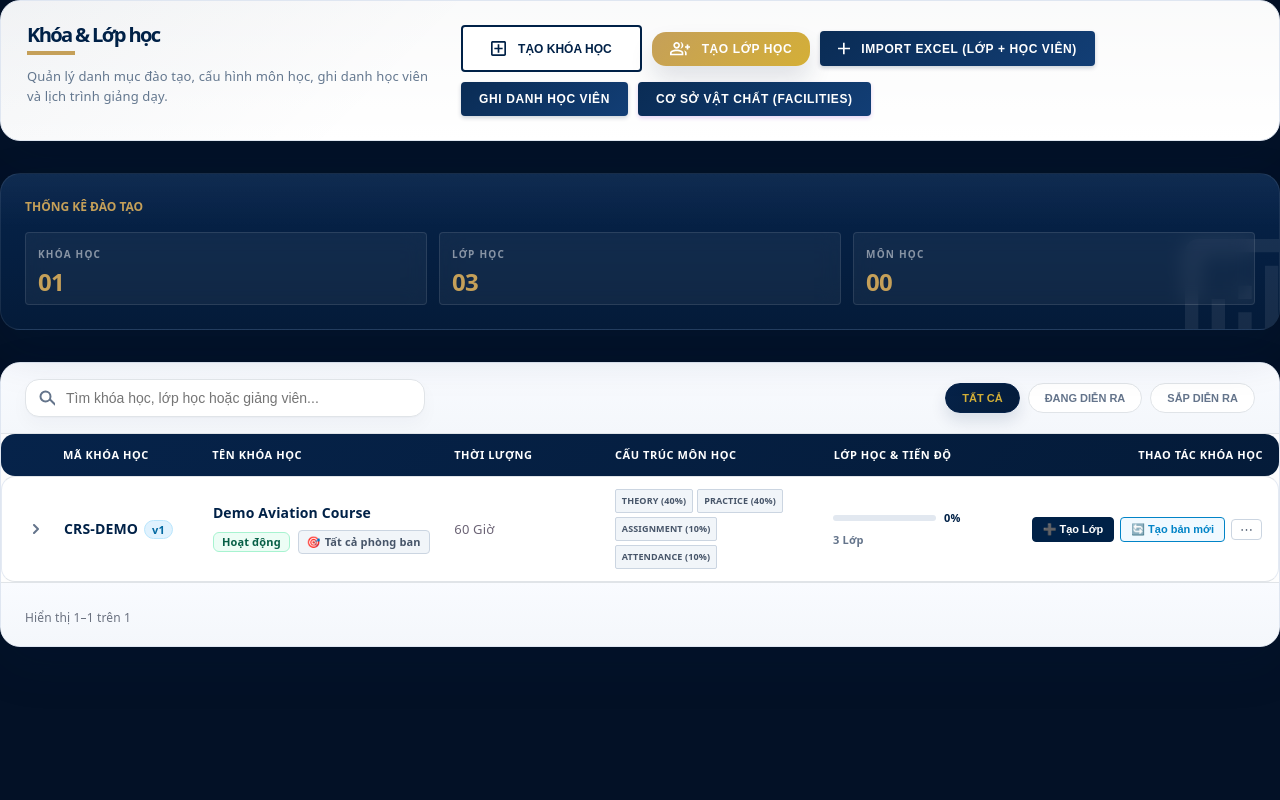
Test case: Course & Class Action Menu (⋯) & Status-based Direct Actions › course row renders primary actions and ⋯ menu with full course options
Expected: the text "CRS-DEMO" is shown, [64, 520, 138, 538]
Expected: the text "TẠO LỚP HỌC" is shown, [702, 42, 792, 56]
Note: Click ⋯ on the course row (first ⋯ button)
Click the button "⋯": click(1246, 529) [1231, 519, 1262, 540]
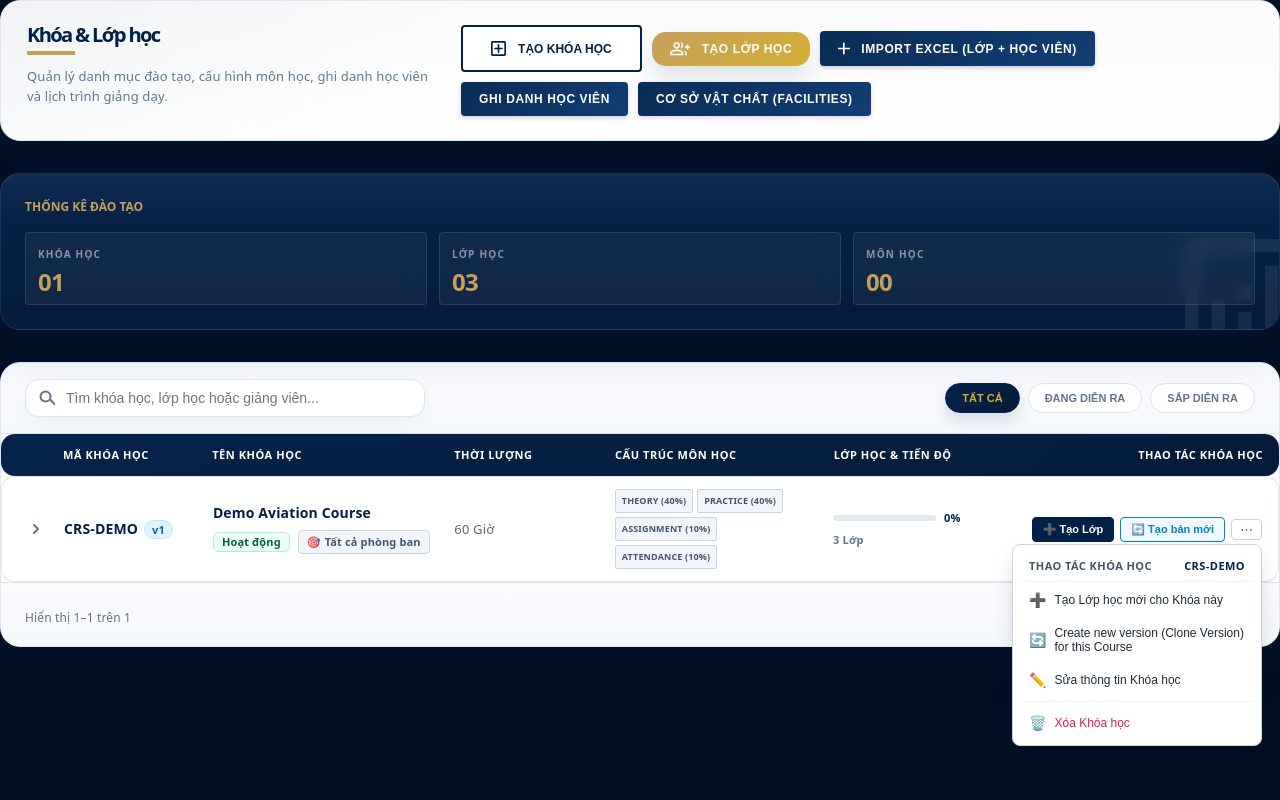
Result: the text "Tạo Lớp học mới cho Khóa này" is shown at [1054, 593, 1223, 607]
Result: the text "Create new version (Clone Version) for this Course" is shown at [1054, 626, 1245, 654]
Result: the text "Sửa thông tin Khóa học" is shown at [1054, 673, 1181, 687]
